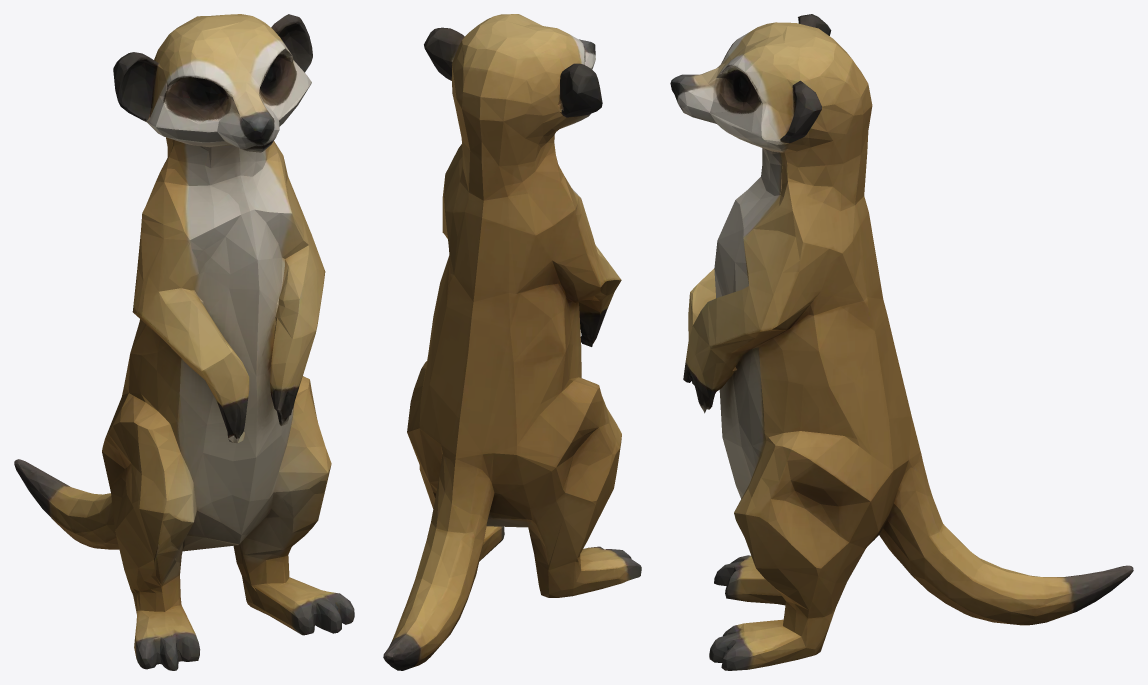
File: meerkat.glb
The picture shows the model from 3 angles, left to right: view 1: azimuth 30°, elevation 25°; view 2: azimuth 150°, elevation 25°; view 3: azimuth 270°, elevation 25°; orthographic projection. The views are drawn at different scales.
Parts seen in each view (by area): view 1: world; view 2: world; view 3: world.
Part boxes in pixels (x1,y1,x2,y2): world: (14,14,354,670); world: (383,14,641,670); world: (670,14,1133,670).
Bounding box in the file's own units: 0.3628 × 0.9949 × 0.7021.
Materials: 1 (1 with a texture image).
